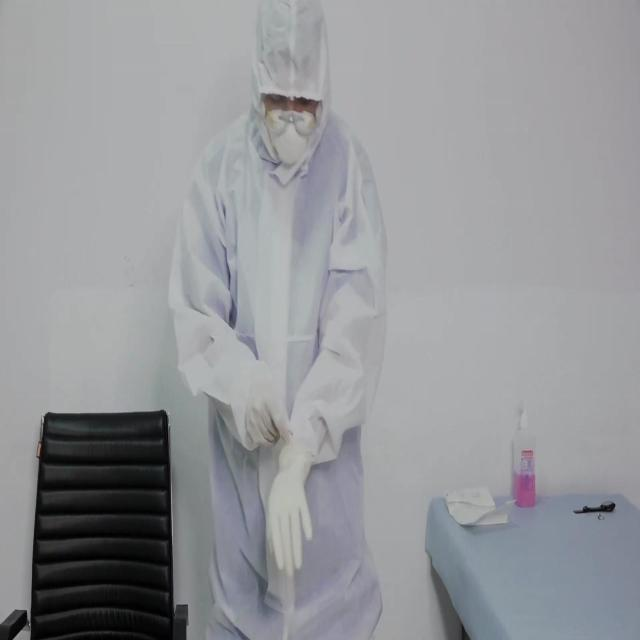Coverall: (168, 2, 388, 637)
Gloves: (266, 443, 313, 576), (245, 369, 294, 448)
Goggles: (260, 85, 324, 141)
Mask: (266, 108, 312, 166)
